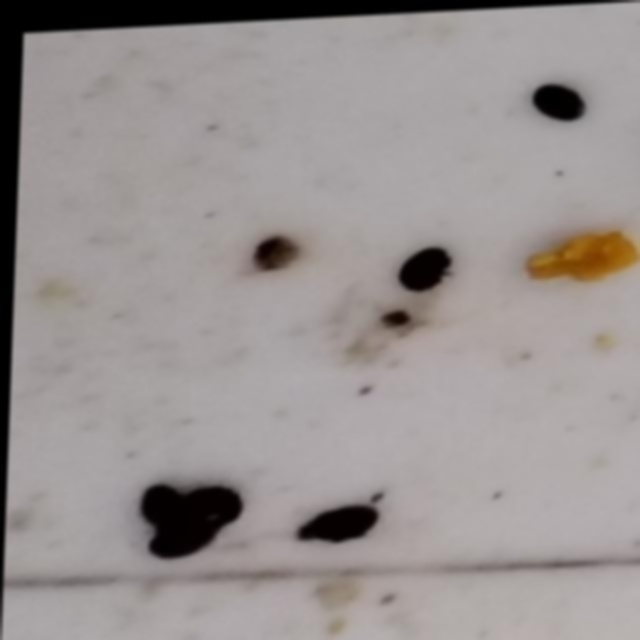varroa: (291, 499, 378, 539), (136, 516, 217, 557), (180, 475, 245, 521), (392, 239, 449, 288), (525, 77, 580, 122), (134, 479, 186, 522)
